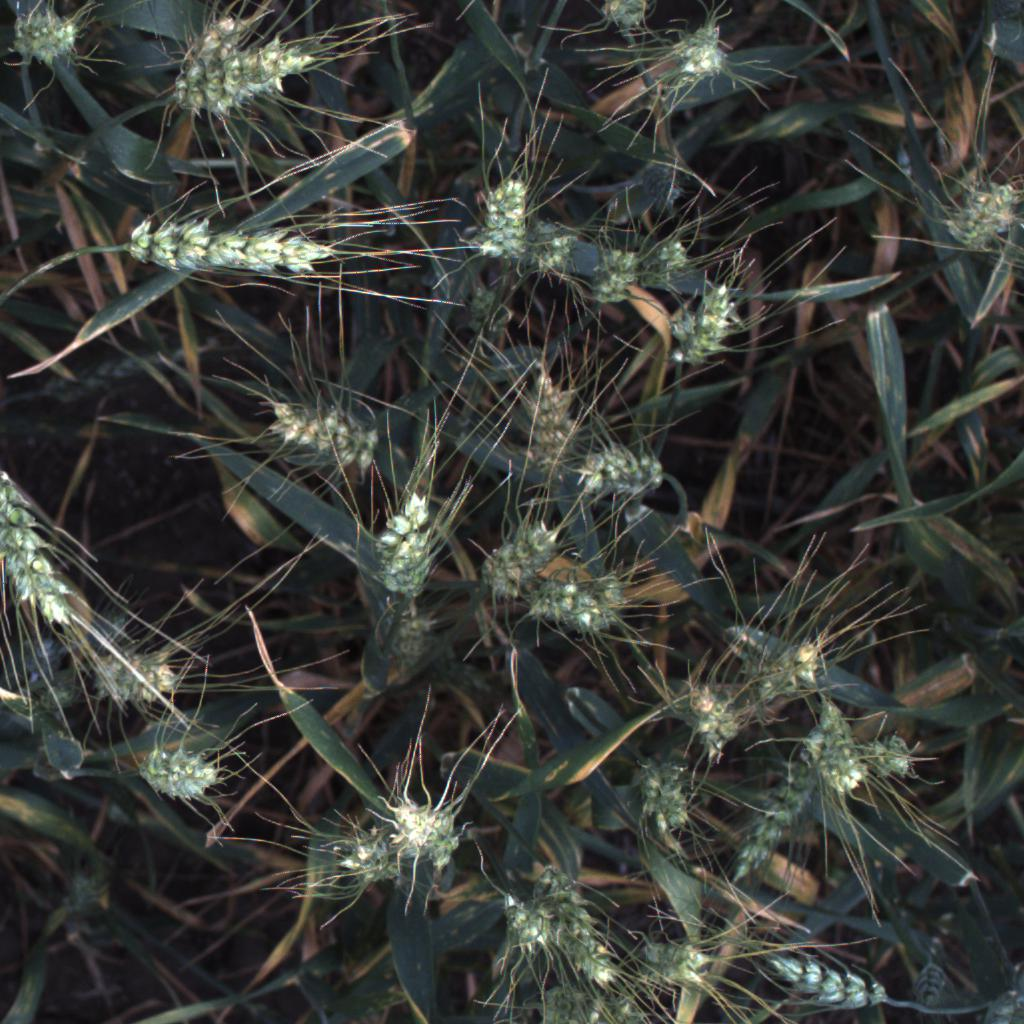0-0: (121, 192, 348, 301), (0, 458, 89, 645), (523, 856, 638, 999), (169, 36, 340, 126), (508, 352, 586, 515), (726, 765, 819, 894), (747, 612, 850, 721), (73, 634, 200, 721), (363, 483, 451, 608), (121, 735, 247, 820), (472, 509, 582, 603), (316, 809, 422, 904), (375, 780, 469, 881), (665, 274, 752, 383), (525, 564, 638, 646), (755, 946, 895, 1012), (567, 427, 676, 510), (459, 162, 541, 267), (174, 4, 272, 83), (941, 175, 1024, 268), (626, 755, 712, 844), (537, 969, 670, 1024), (674, 673, 751, 766), (584, 231, 651, 333), (305, 398, 391, 474), (668, 19, 754, 94), (5, 5, 93, 77), (628, 928, 722, 995), (816, 690, 870, 803), (487, 881, 556, 963), (260, 389, 326, 451), (649, 224, 709, 291), (579, 0, 668, 45), (531, 213, 579, 295), (868, 733, 935, 789)
